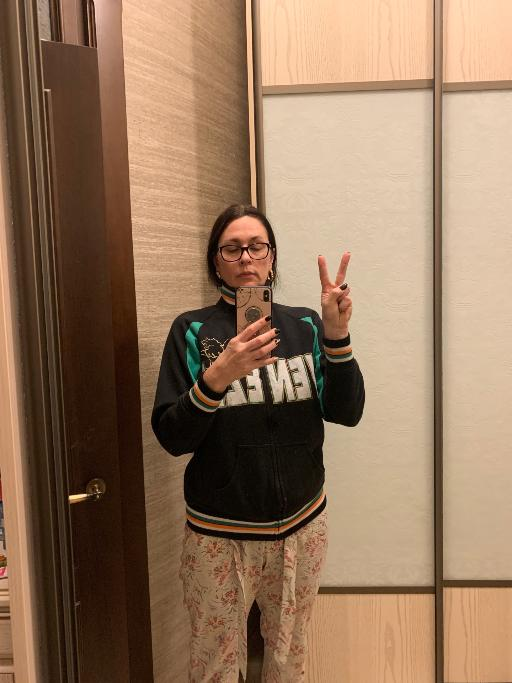no_gesture: (212, 313, 283, 380)
peace: (315, 250, 356, 331)
